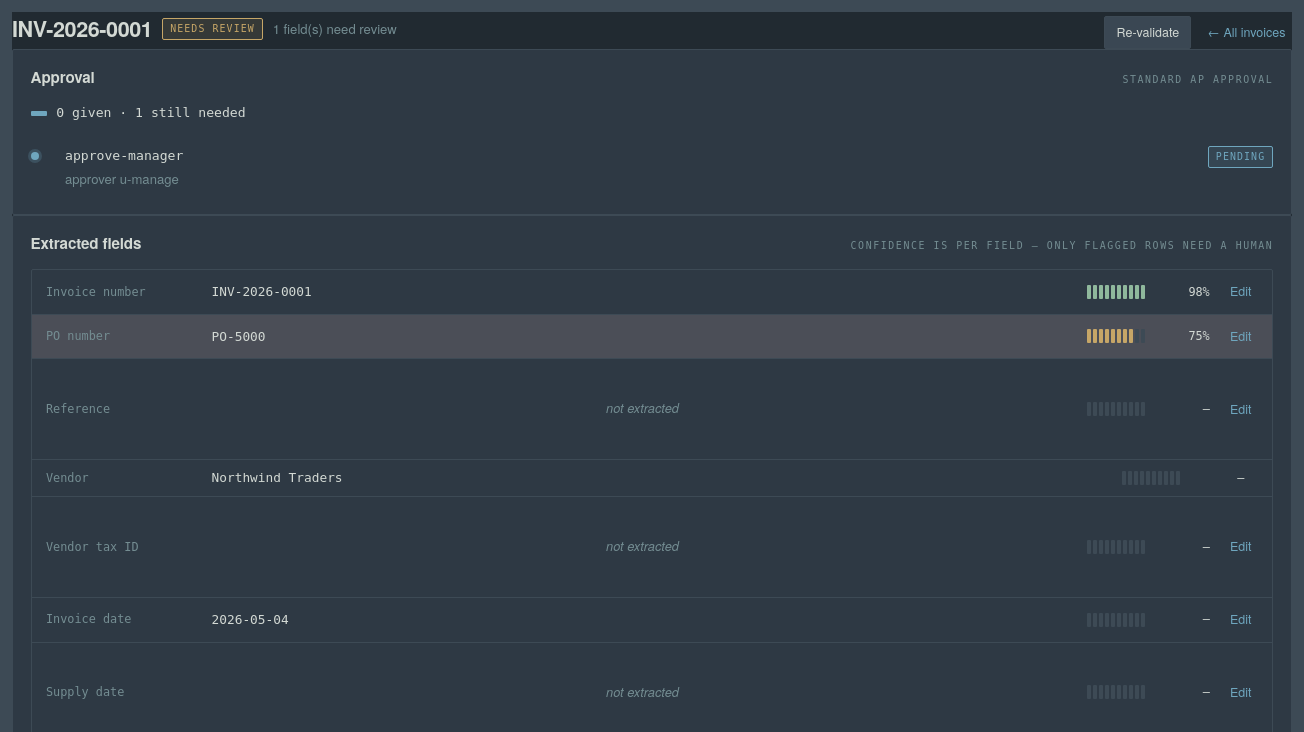
Test: correcting a field › abandons an edit on Cancel without sending anything
Click the button "Edit" next to "75%": click(1241, 336) [1223,323,1258,350]
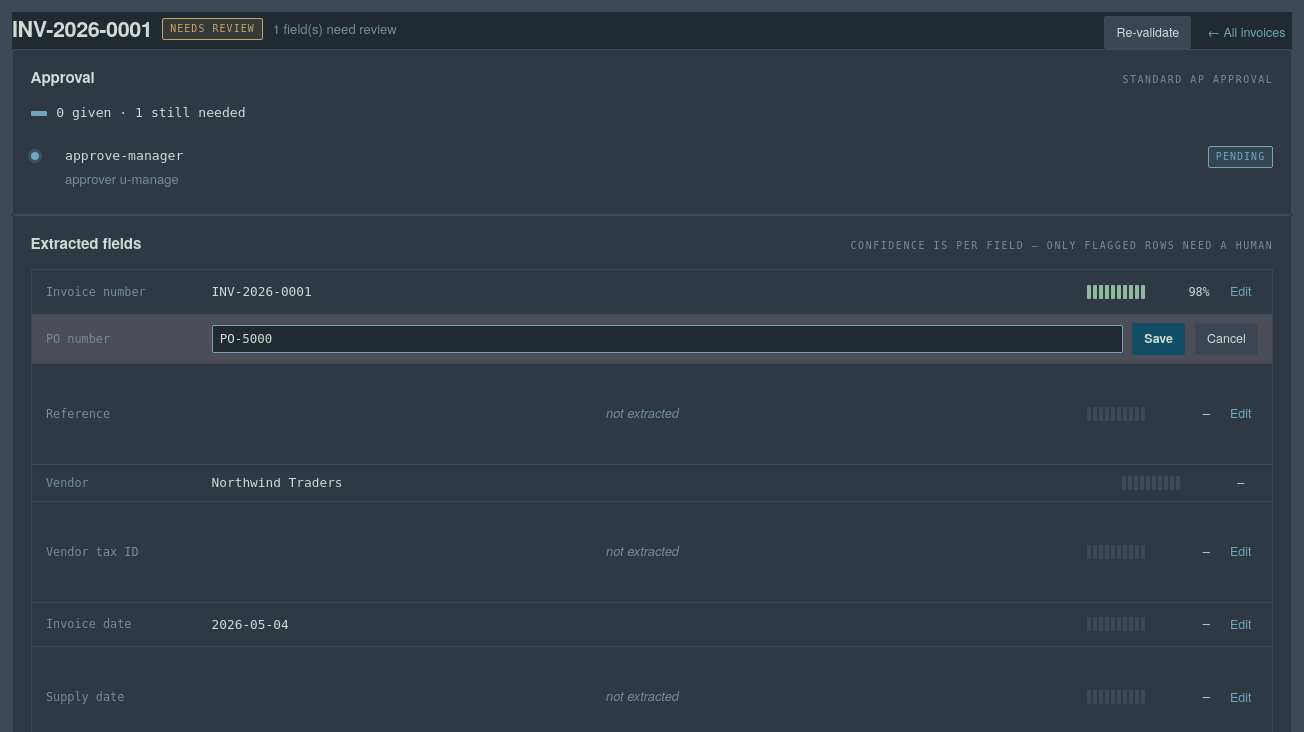
In the field: (667, 339) [212,325,1123,353], type "typo"
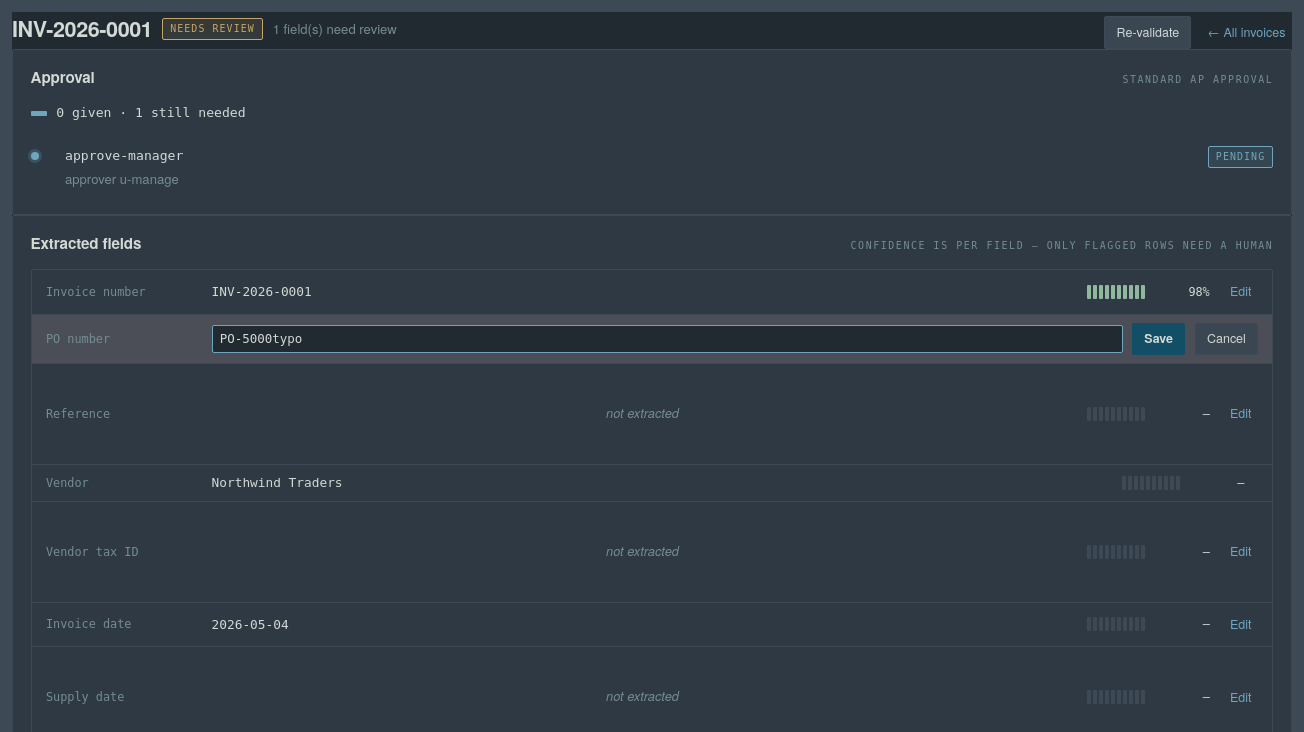
Click the button "Cancel": click(1226, 339) [1195,323,1258,355]
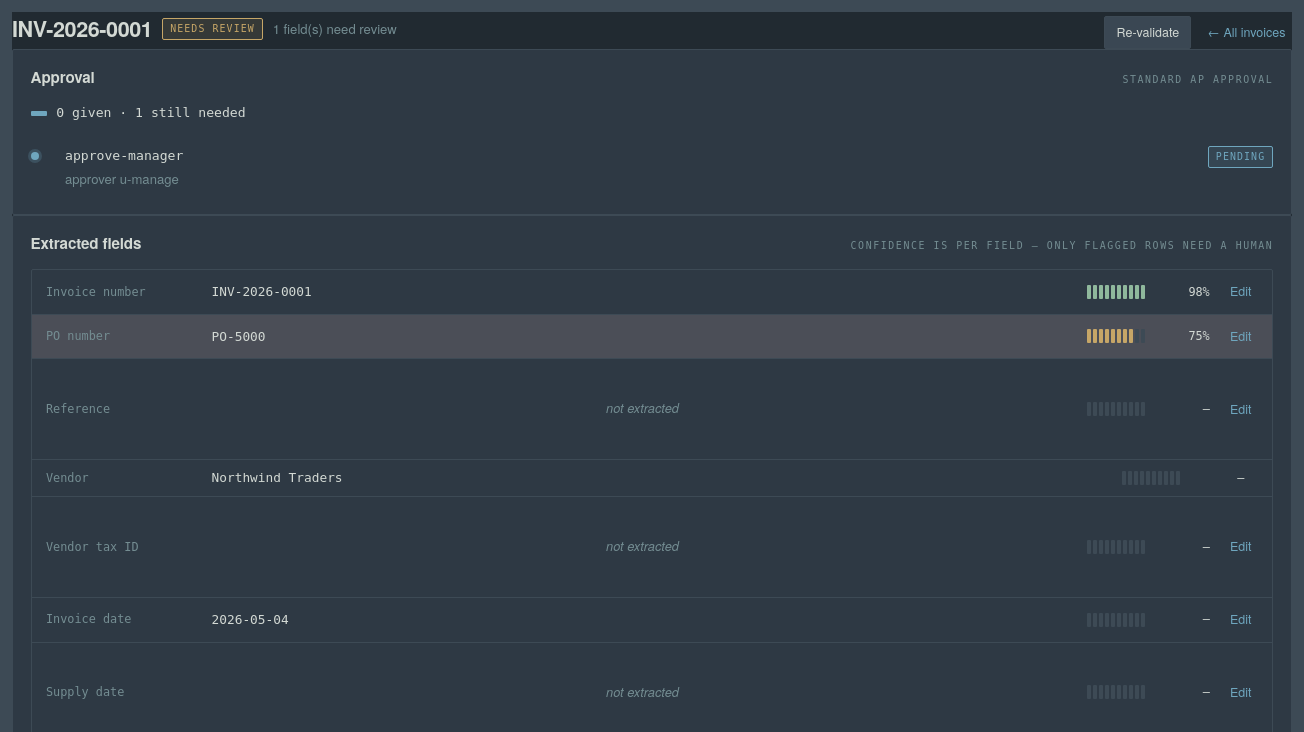
expect the field is gone: met
